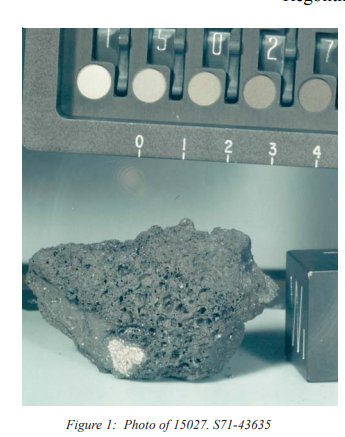Breccia: (18, 213, 276, 380), (24, 200, 243, 389)
